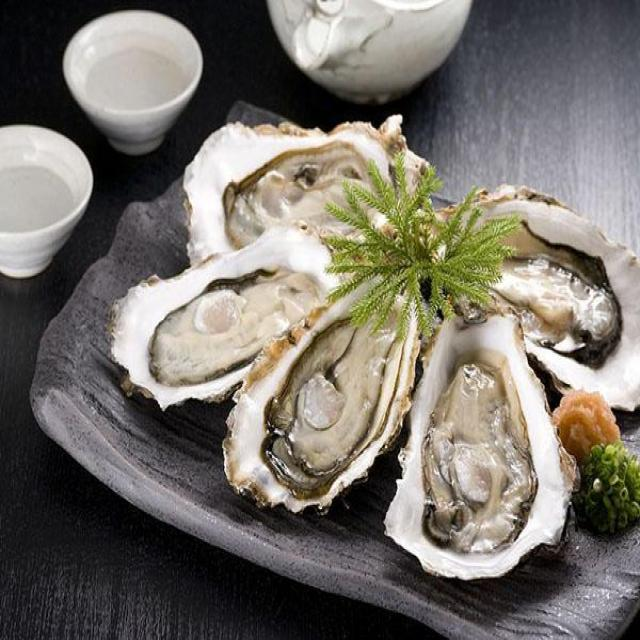Oyster-Open: (382, 299, 580, 587), (219, 270, 422, 520), (431, 179, 640, 415), (101, 220, 342, 415), (178, 114, 436, 273)
